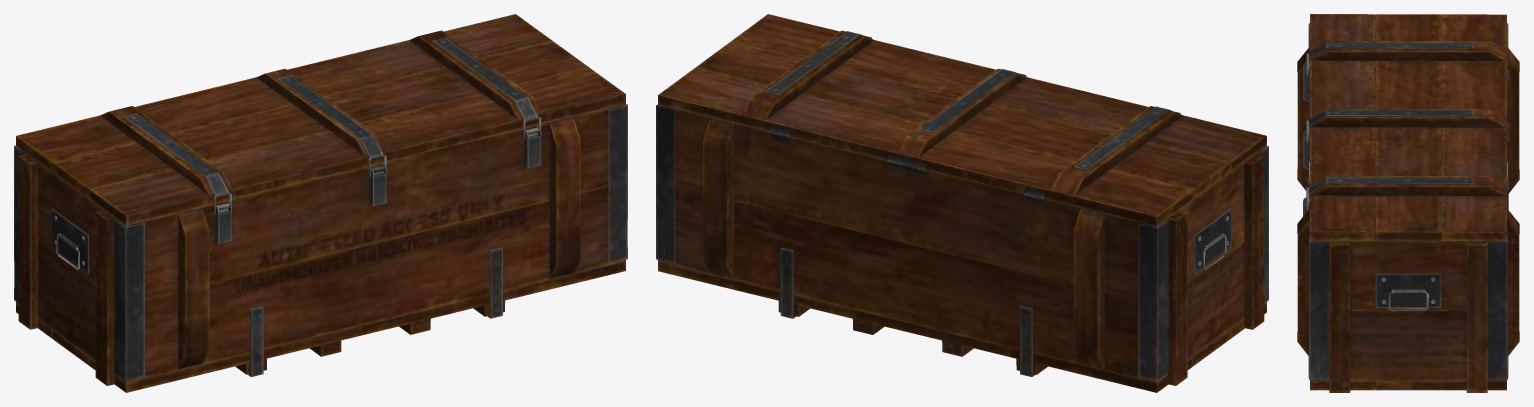
The model's file is wooden_military_crate_1k.gltf.
3 renders of one model, left to right at view 1: azimuth 30°, elevation 25°; view 2: azimuth 150°, elevation 25°; view 3: azimuth 270°, elevation 25°, orthographic. The views are drawn at different scales.
Parts seen in each view (by area): view 1: wooden_military_crate_LOD0, wooden_military_crate_lid_LOD0; view 2: wooden_military_crate_LOD0, wooden_military_crate_lid_LOD0; view 3: wooden_military_crate_lid_LOD0, wooden_military_crate_LOD0.
Part boxes in pixels (x1,y1,x2,y2): wooden_military_crate_LOD0: (14,103,627,392); wooden_military_crate_lid_LOD0: (16,14,625,225); wooden_military_crate_LOD0: (656,104,1268,392); wooden_military_crate_lid_LOD0: (658,14,1266,225); wooden_military_crate_lid_LOD0: (1306,14,1509,240); wooden_military_crate_LOD0: (1297,23,1519,392).
Size of what is drawn, in the model's own units: 1.24 by 0.4642 by 0.5171.
Materials: 1 (1 with a texture image).
